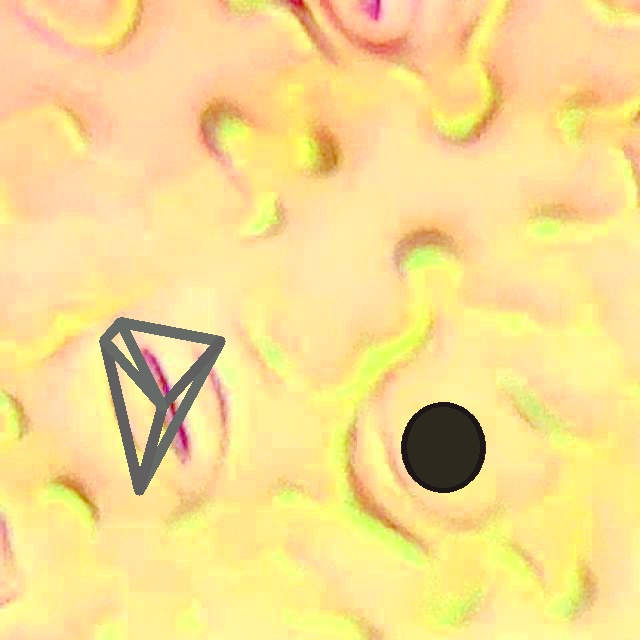close: (100, 317, 225, 494)
open: (400, 402, 485, 492)
